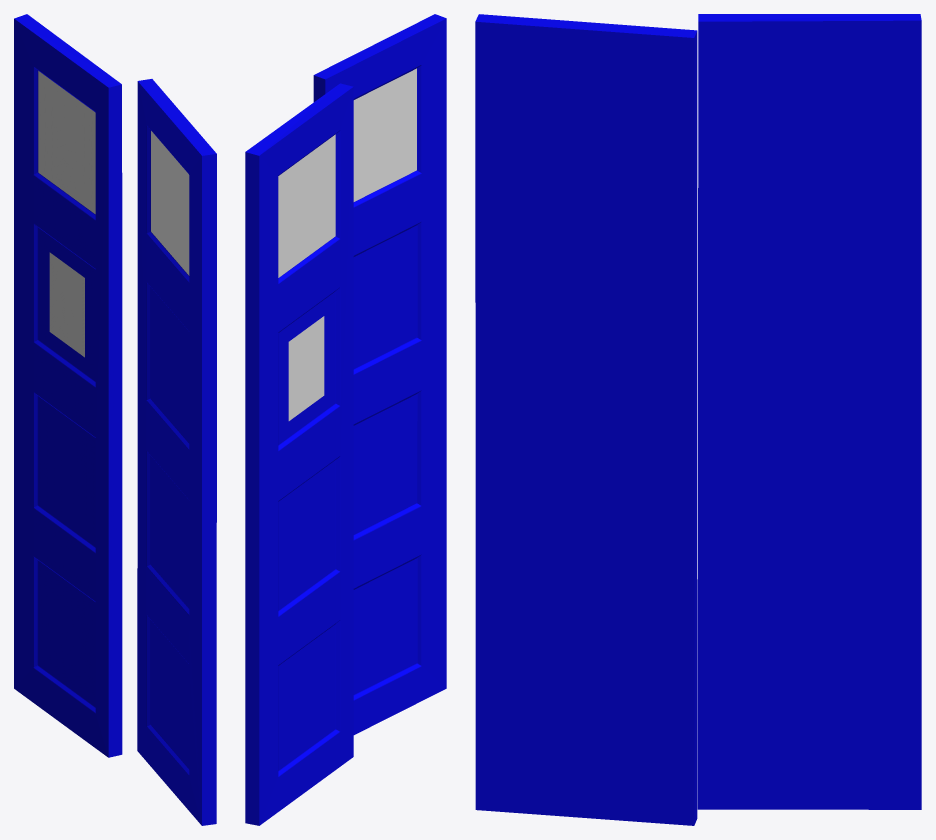
File: tardis_door.FBX
3 renders of one model, left to right at view 1: azimuth 30°, elevation 25°; view 2: azimuth 150°, elevation 25°; view 3: azimuth 270°, elevation 25°, orthographic. The views are drawn at different scales.
Parts seen in each view (by area): view 1: TARDIS_2, TARDIS_3; view 2: TARDIS_2, TARDIS_3; view 3: TARDIS_2, TARDIS_3.
Part boxes in pixels (x1,y1,x2,y2): TARDIS_2: (14, 14, 122, 757); TARDIS_3: (137, 79, 216, 825); TARDIS_2: (245, 83, 353, 825); TARDIS_3: (313, 14, 446, 734); TARDIS_2: (697, 14, 921, 809); TARDIS_3: (475, 14, 697, 825).
Bounding box in the file's own units: 0.1516 × 2.31 × 1.19.
Materials: 1 (1 with a texture image).
